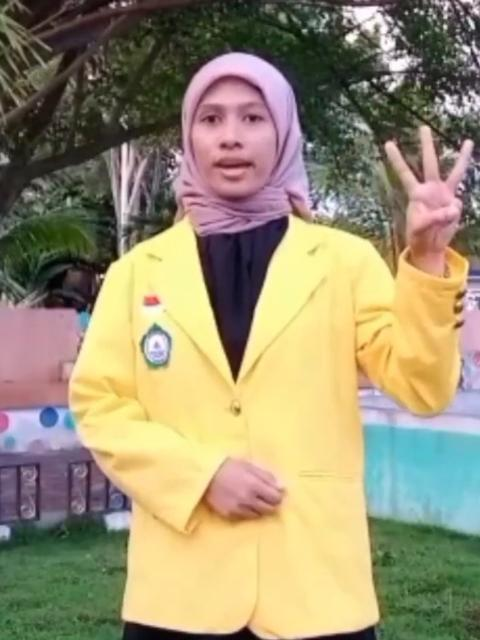W: (380, 123, 480, 255)
